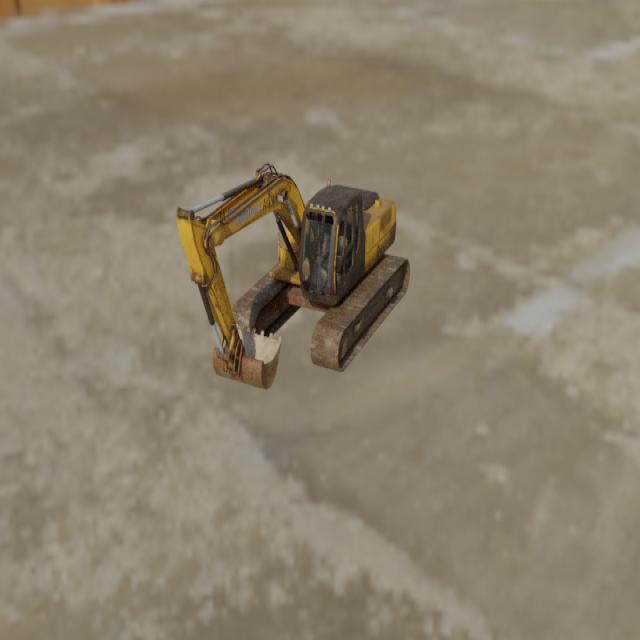excavator: (175, 164, 410, 389)
